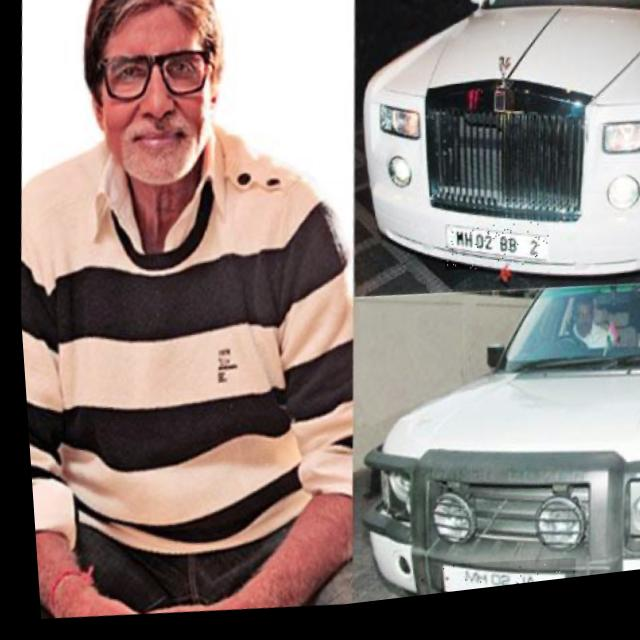license_plate: (437, 227, 546, 288), (429, 561, 567, 603)
